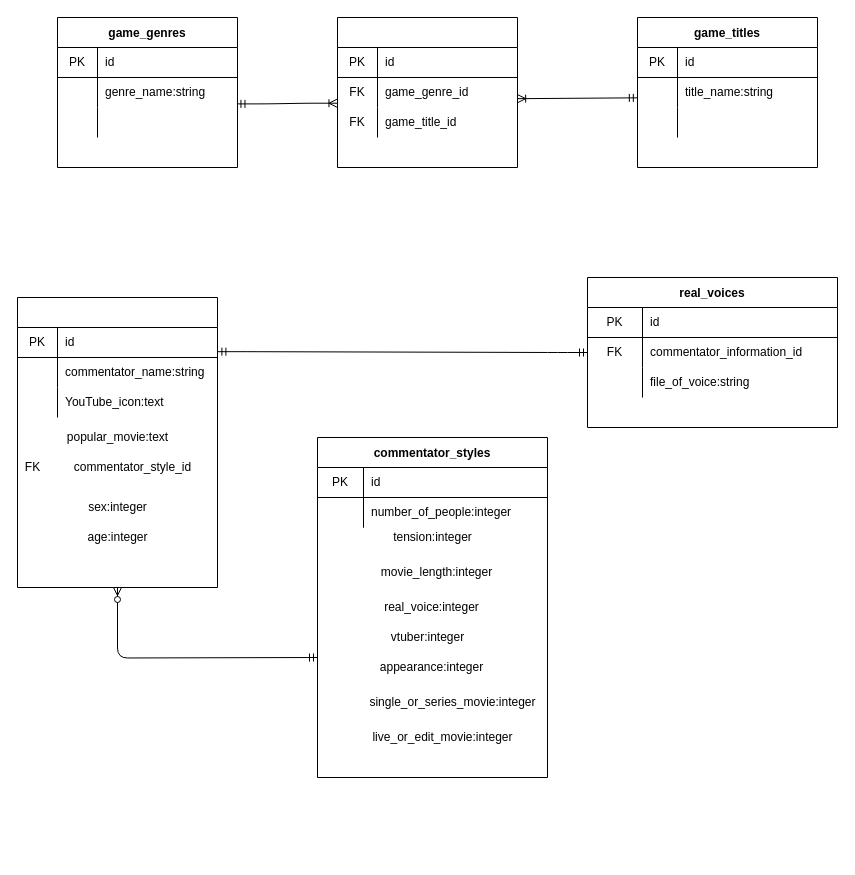
This 855x875 diagram has some shape labels left out. The shapes that lost their labels are listed below. From the top down, each one's box as (x1, y1, x2, y2) in pixels, then its label:
(336, 16, 518, 168): game_genre_titles
(16, 296, 218, 588): commentator_details
